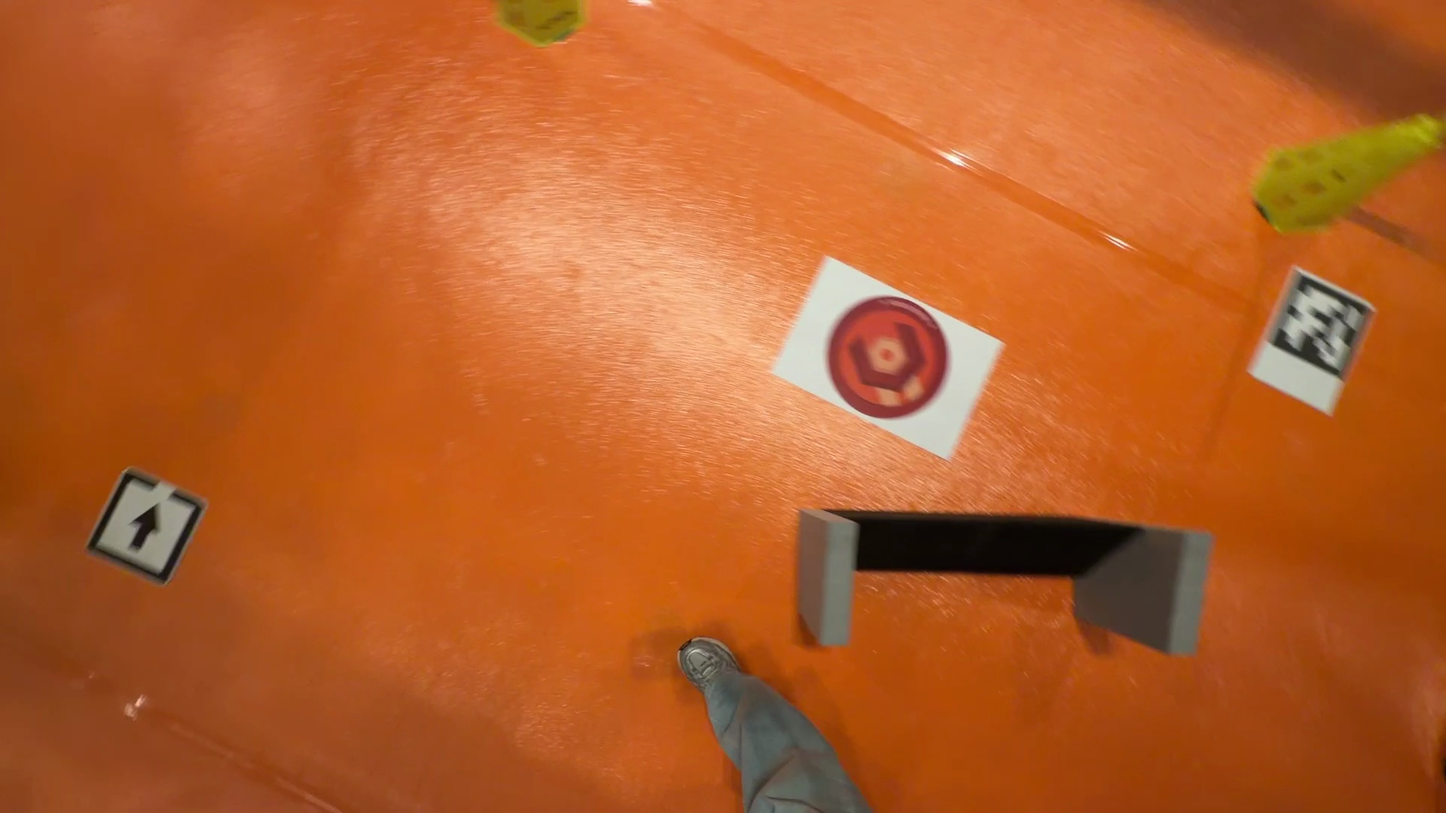landing_pad: (826, 297, 946, 424)
